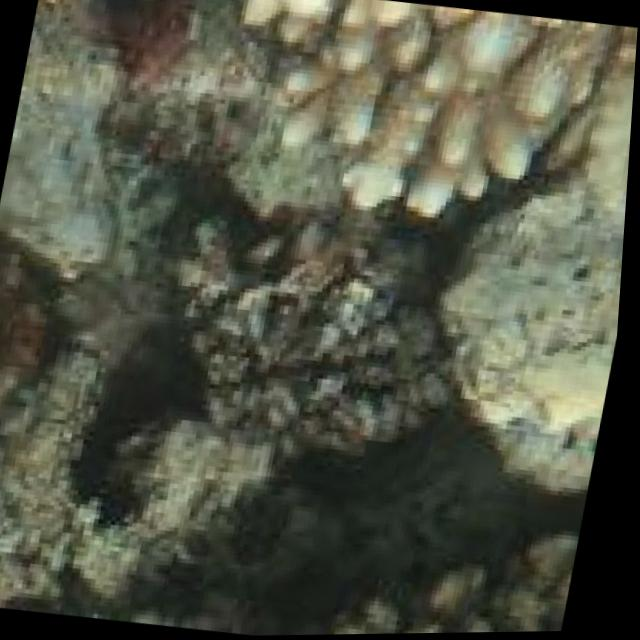Bleached Coral: (179, 0, 640, 269)
